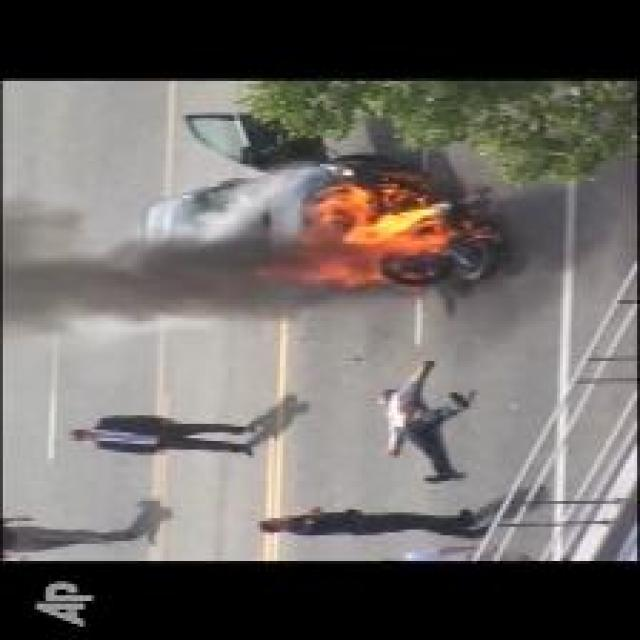Fire: (257, 184, 457, 284)
